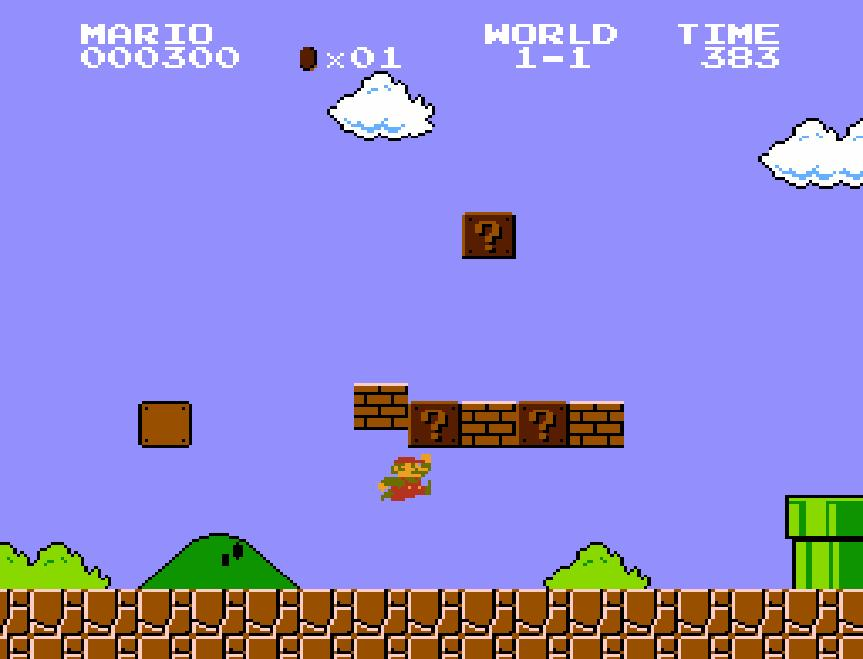little_mario: (376, 452, 434, 502)
